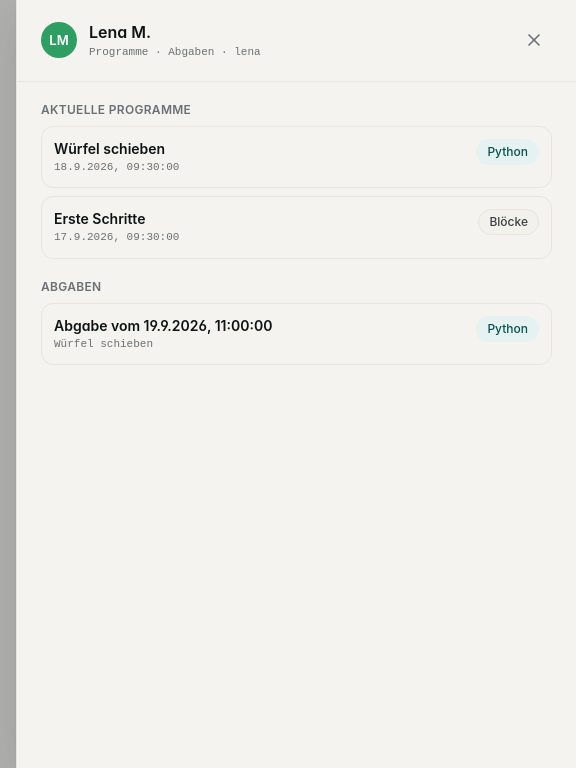
Test: StudentProgramsDrawer — what the teacher sees › opening a Python program shows its files, read-only
Expected: the element "Aktuelle Programme" is shown, [41,102,552,258]
Click the button "Würfel schieben 18.9.2026, 09:30:00 Python": (110, 148) [41,126,552,188]
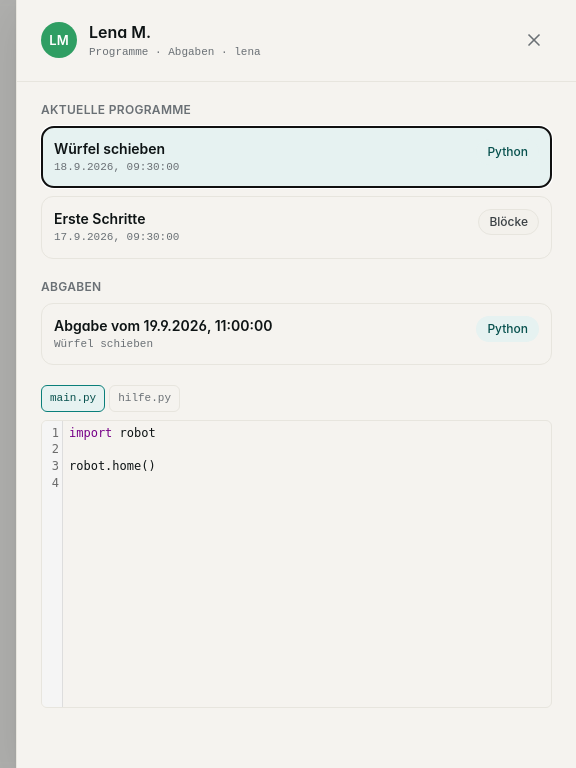
Now the button "main.py" is shown, box [41,385,105,412]
Now the button "hilfe.py" is shown, box [109,385,180,412]
Now the text "robot.home()" is shown, box [69,459,156,473]
